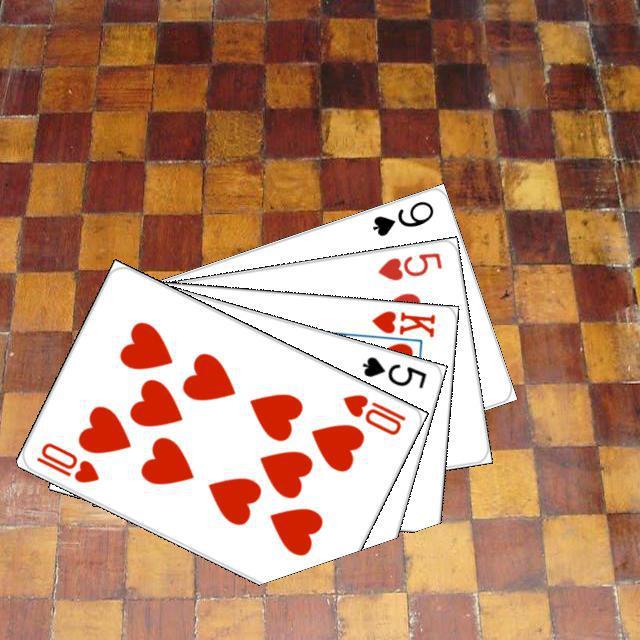10h: (337, 389, 408, 437), (31, 437, 102, 485)
5h: (372, 247, 444, 282)
5s: (357, 351, 428, 390)
9s: (367, 195, 436, 238)
Kh: (359, 306, 437, 347)
